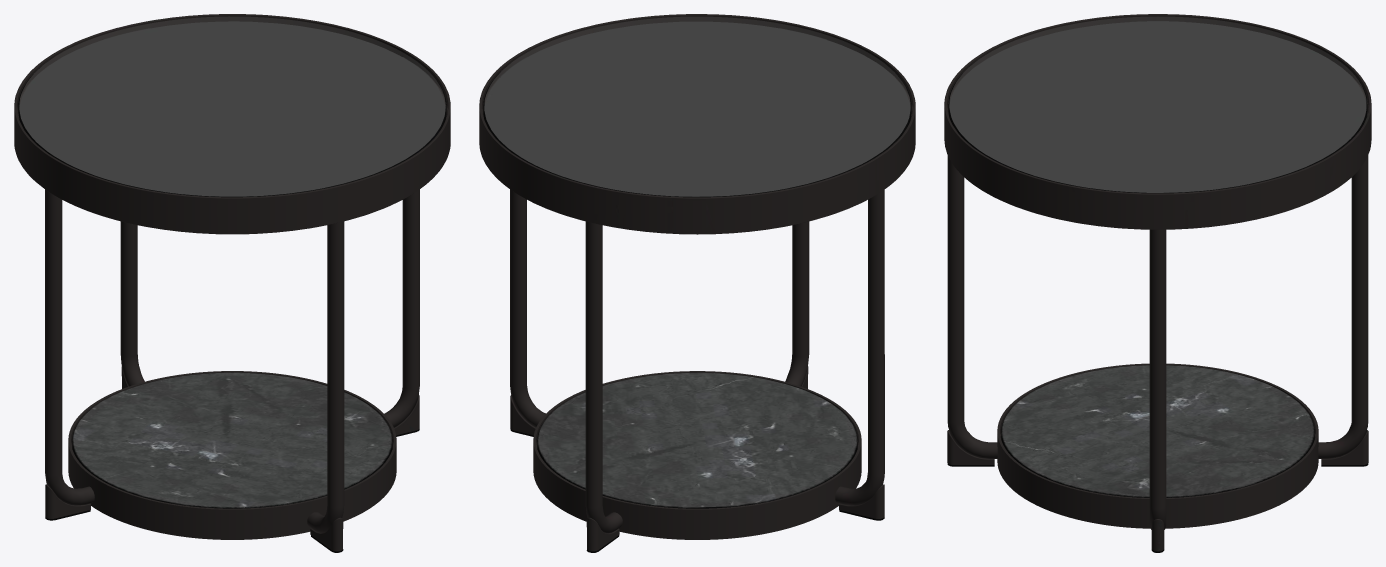
File: frotorp_stolik_10492276.glb
3 renders of one model, left to right at view 1: azimuth 30°, elevation 25°; view 2: azimuth 150°, elevation 25°; view 3: azimuth 270°, elevation 25°, orthographic. The views are drawn at different scales.
Visible parts, largest first — view 1: frotorp_stolik_10492276; view 2: frotorp_stolik_10492276; view 3: frotorp_stolik_10492276.
Part boxes in pixels (x1,y1,x2,y2): frotorp_stolik_10492276: (14, 14, 450, 552); frotorp_stolik_10492276: (479, 14, 915, 552); frotorp_stolik_10492276: (944, 14, 1371, 552).
Bounding box in the file's own units: 0.484 × 0.45 × 0.484.
2 materials, 2 textured.
